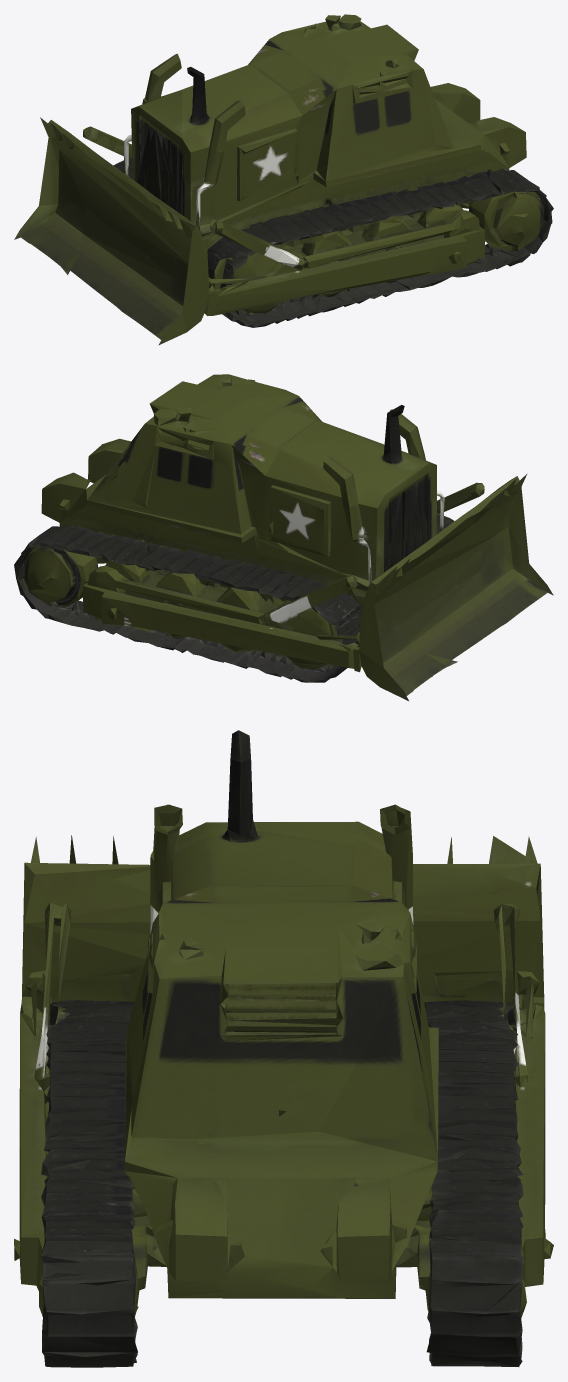
3 views of the same model, one above another, from view 1: azimuth 30°, elevation 25°; view 2: azimuth 150°, elevation 25°; view 3: azimuth 270°, elevation 25° (orthographic). The views are drawn at different scales.
Visible parts, largest first — view 1: output_unwrapped; view 2: output_unwrapped; view 3: output_unwrapped.
Boxes of the visible parts, x1=… form: output_unwrapped: x1=14, y1=14, x2=553, y2=345; output_unwrapped: x1=14, y1=374, x2=553, y2=700; output_unwrapped: x1=14, y1=730, x2=553, y2=1367.
Size of the model in its own units: 1.9 by 1 by 1.22.
1 material, 1 textured.
